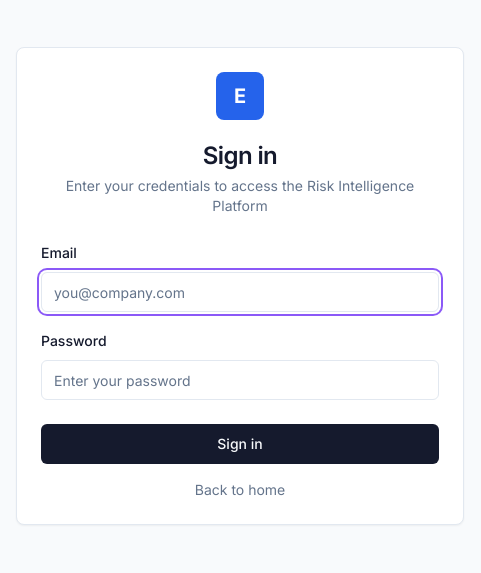
Scenario: LoginPage › Form Submission › should show error message on invalid credentials (401)
Type "wrong@example.com" into the field labelled "Email" at (240, 292), box x1=41 y1=272 x2=439 y2=312
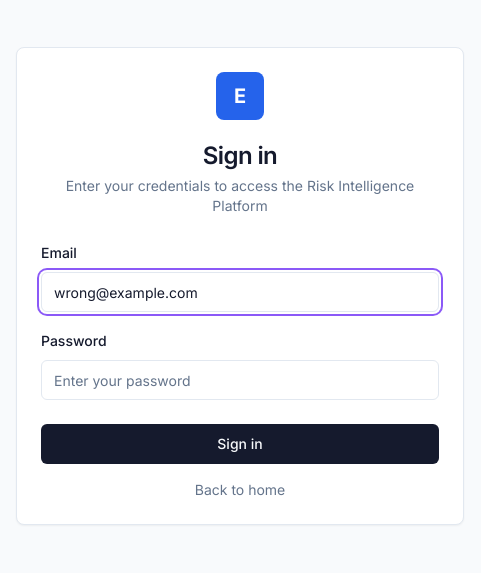
Type "wrongpassword" into the password field labelled "Password" at (240, 380), box x1=41 y1=360 x2=439 y2=400
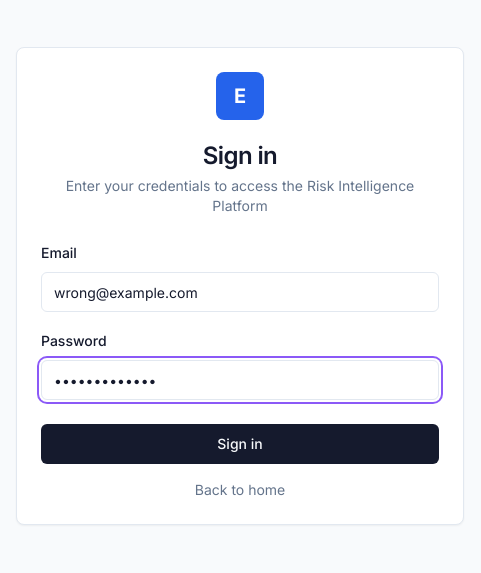
Click the button "Sign in" at (240, 444), box x1=41 y1=424 x2=439 y2=464
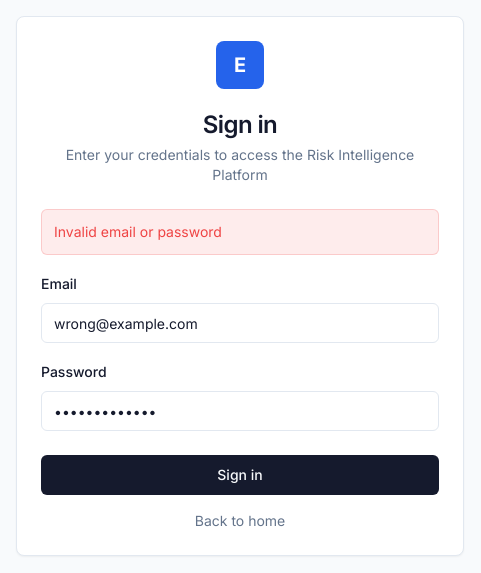
Expected: the text "Invalid email or password" is shown, x1=41 y1=209 x2=439 y2=255
